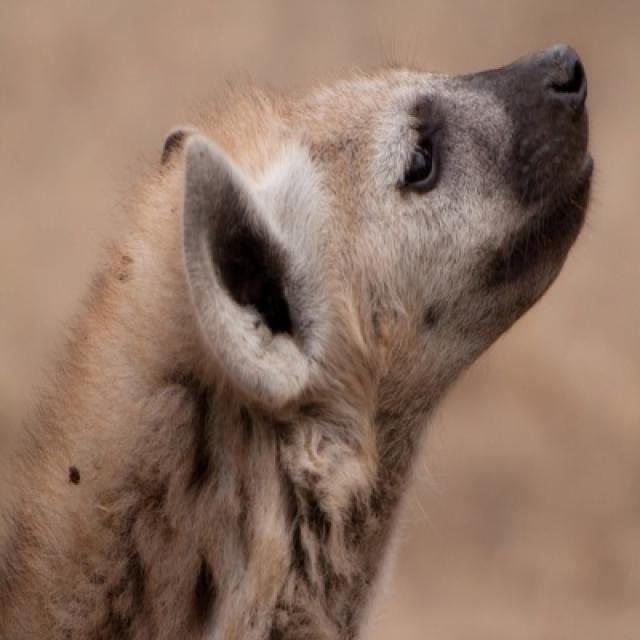hyena: (0, 45, 597, 638)
